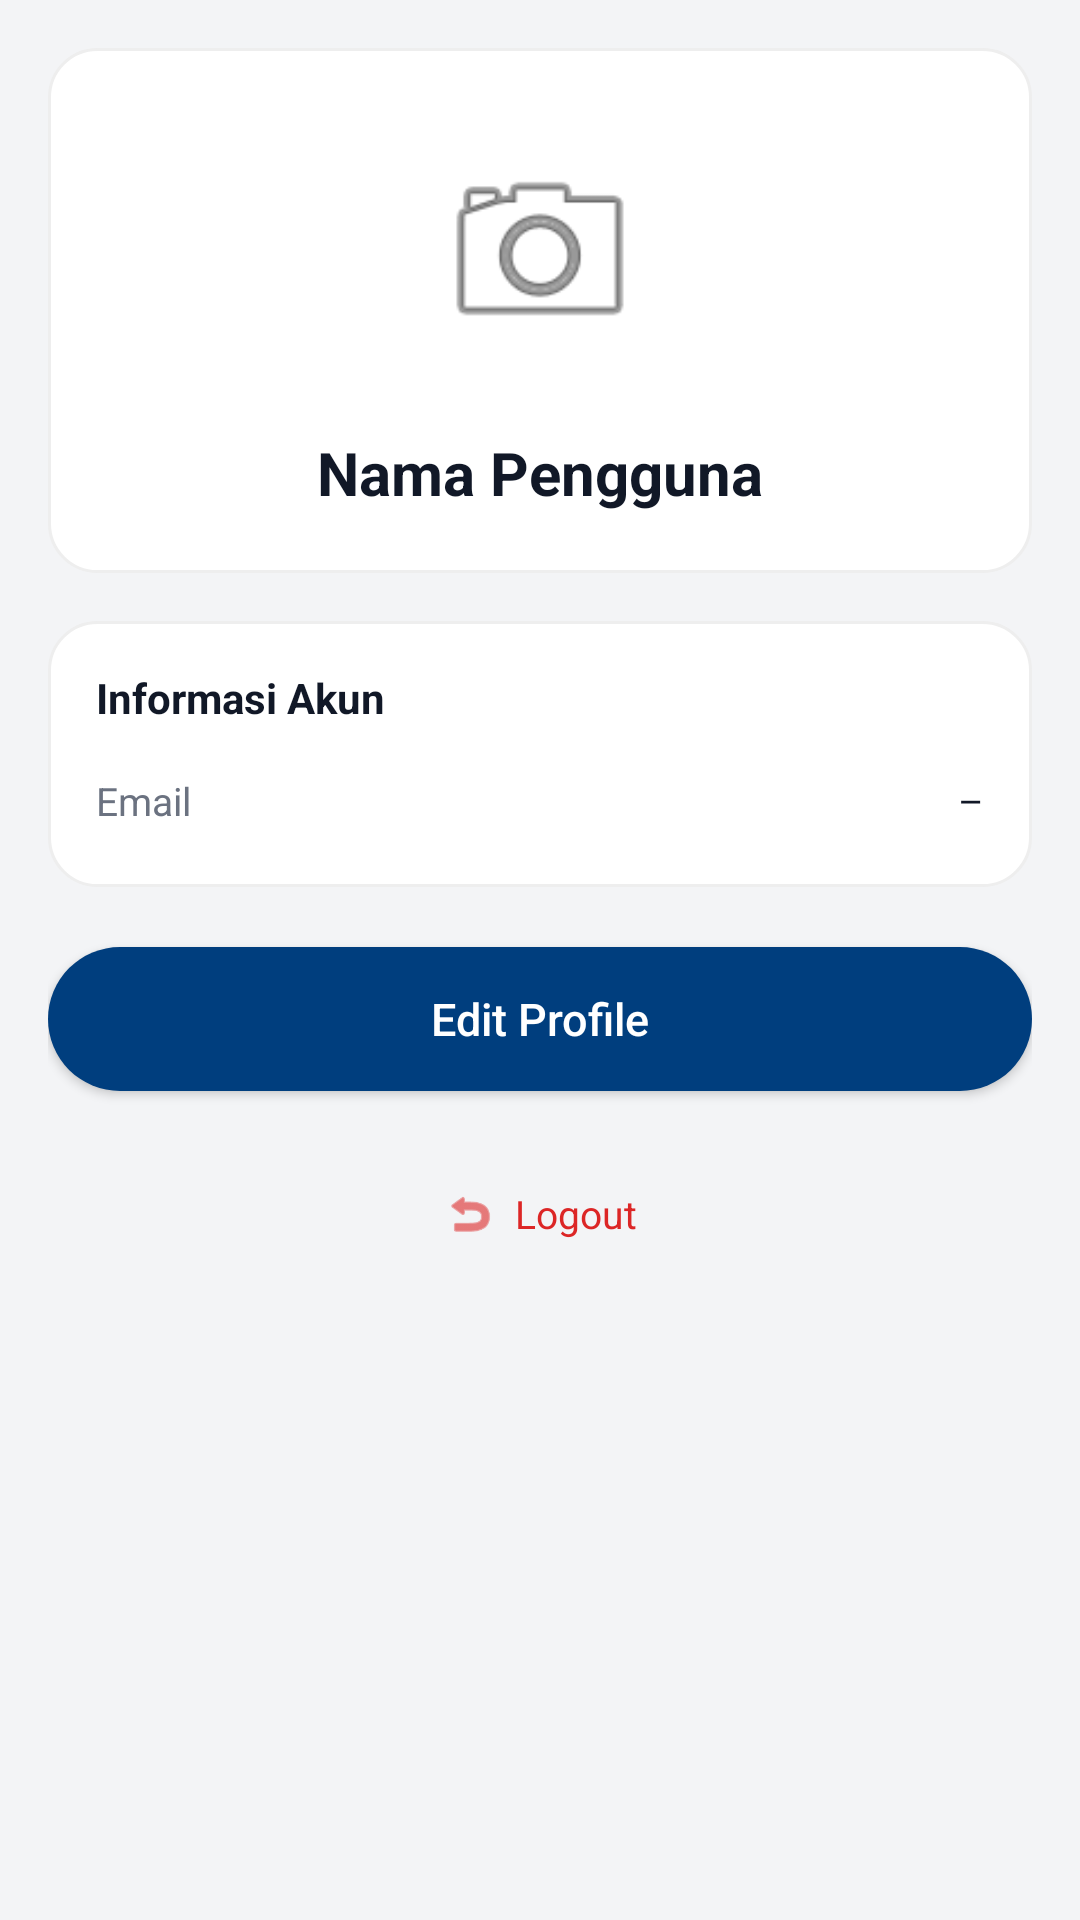

Where icons sit on this 1080px x 1920px app screen, as [x1, y1, x2, y2]:
camera: [456, 182, 624, 315]
revert: [451, 1197, 490, 1232]
